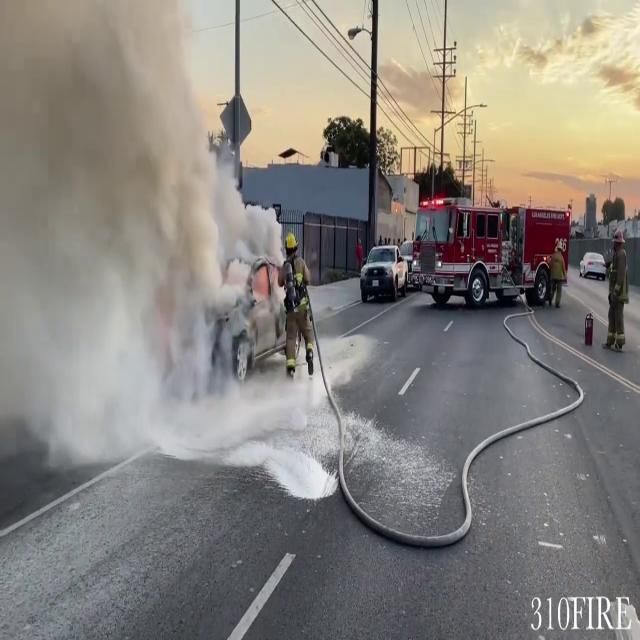Smoke: (0, 0, 273, 484)
